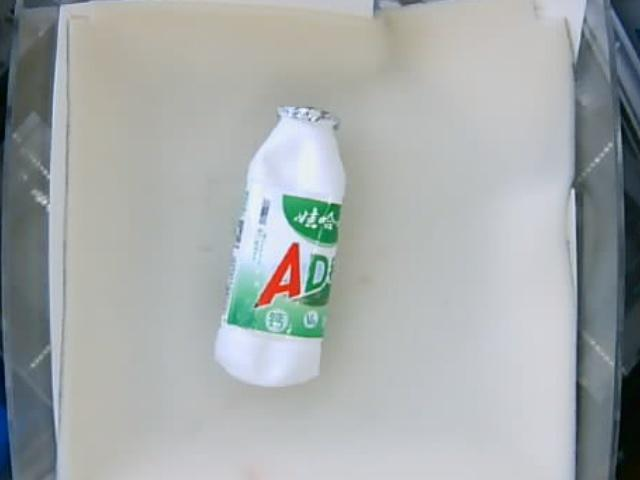Bottle: (213, 108, 348, 387)
